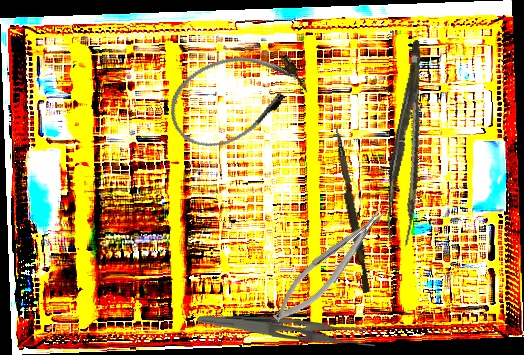Cannula: (157, 34, 315, 160)
Dressing Forceps: (196, 314, 377, 350)
Needle Holder: (263, 202, 398, 330)
Pusher: (328, 127, 375, 294)
Tissue Forceps: (374, 39, 447, 248)
